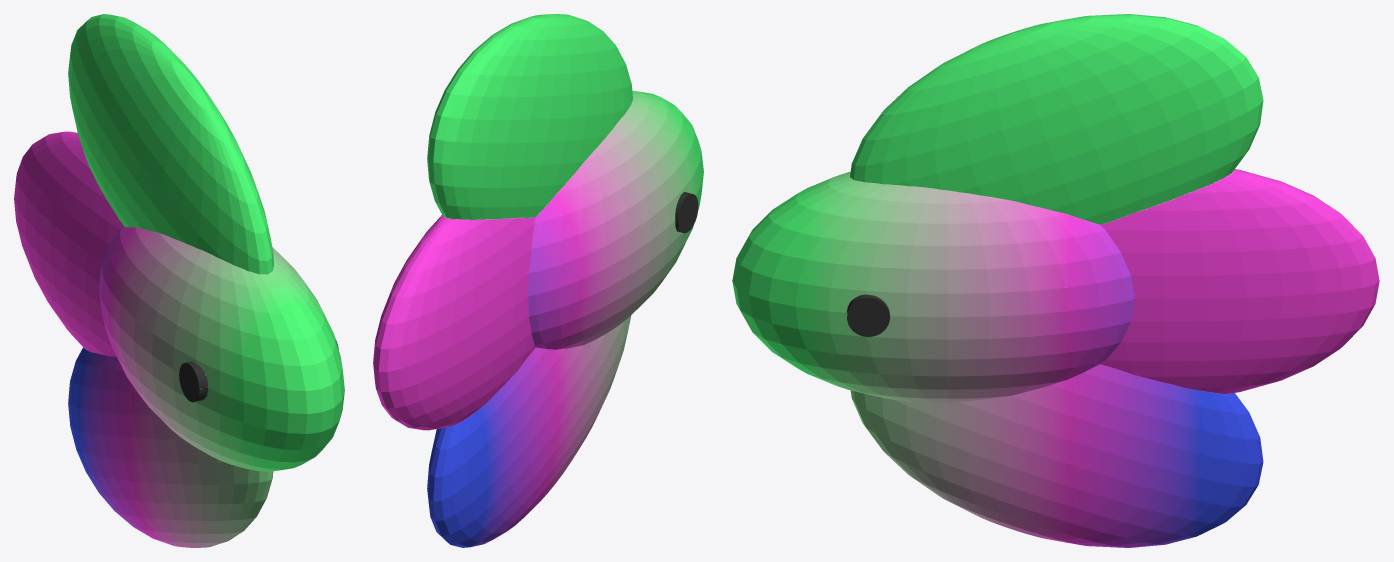
File: Fish.fbx
The picture shows the model from 3 angles, left to right: view 1: azimuth 30°, elevation 25°; view 2: azimuth 150°, elevation 25°; view 3: azimuth 270°, elevation 25°; orthographic projection. The views are drawn at different scales.
Visible parts, largest first — view 1: Sphere; view 2: Sphere; view 3: Sphere.
Part boxes in pixels (x1,y1,x2,y2): Sphere: [14, 14, 344, 547]; Sphere: [373, 14, 703, 547]; Sphere: [732, 14, 1379, 547].
Size of the model in its own units: 80 by 272 by 300.
5 materials, 5 textured.
